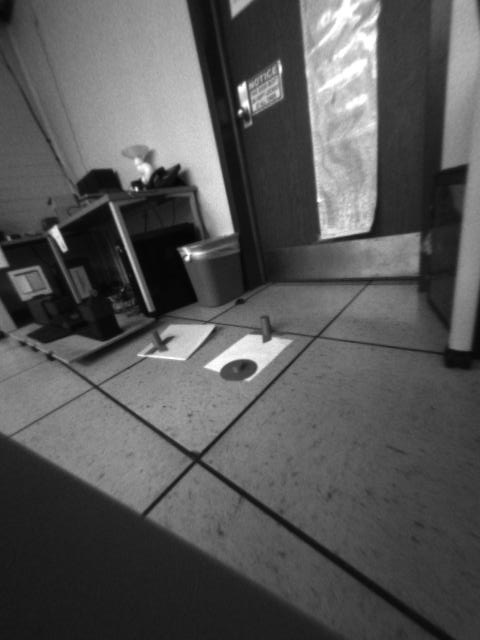X: (248, 315, 288, 343), (144, 327, 175, 355)
